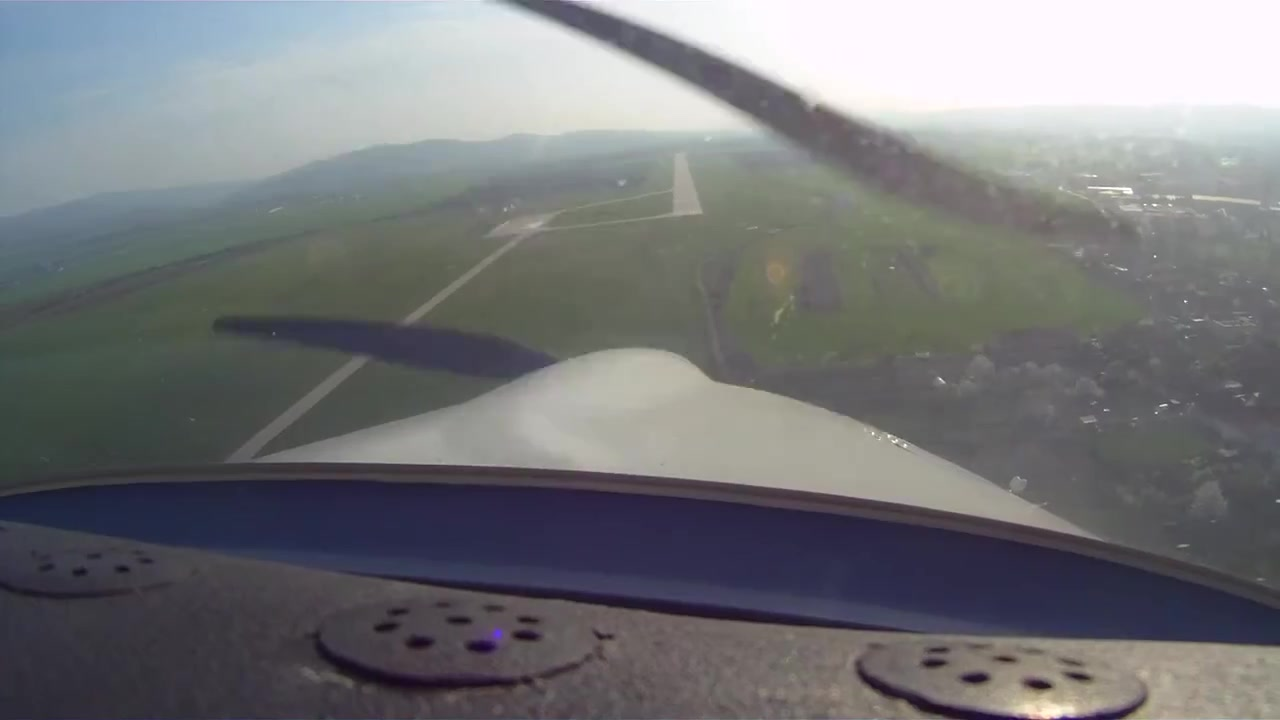runway: (665, 152, 705, 220)
